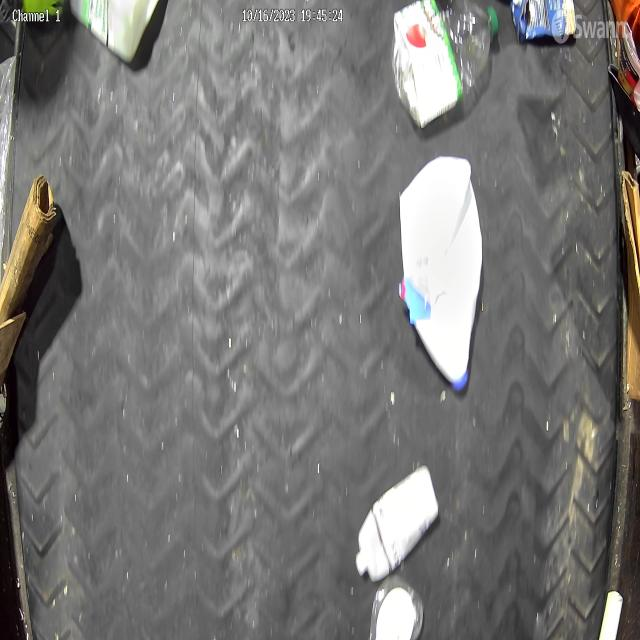milk_jug: (399, 155, 483, 393)
plastic_bottle: (392, 0, 500, 128)
